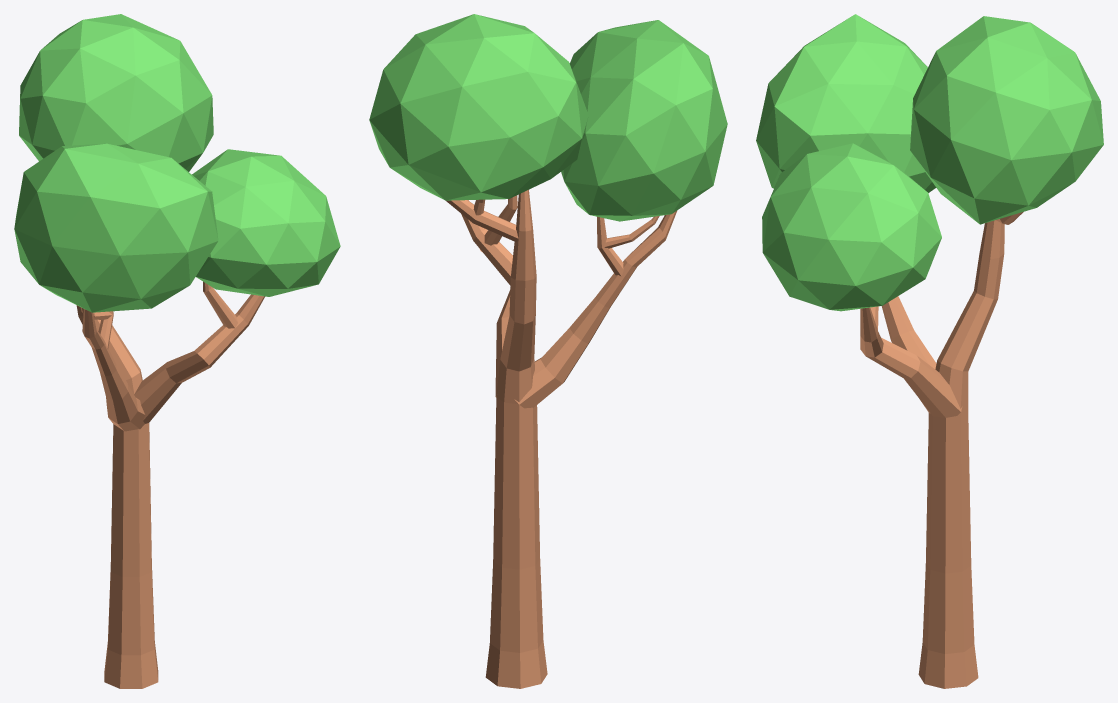
File: 10remake_again.fbx
3 views of the same model, side by side, from view 1: azimuth 30°, elevation 25°; view 2: azimuth 150°, elevation 25°; view 3: azimuth 270°, elevation 25° (orthographic). The views are drawn at different scales.
Parts seen in each view (by area): view 1: Circle.007; view 2: Circle.007; view 3: Circle.007.
Part boxes in pixels (bbox=[...]): Circle.007: bbox=[14, 14, 340, 688]; Circle.007: bbox=[369, 14, 727, 688]; Circle.007: bbox=[756, 14, 1103, 688].
Bounding box in the file's own units: 318 × 643 × 312.
